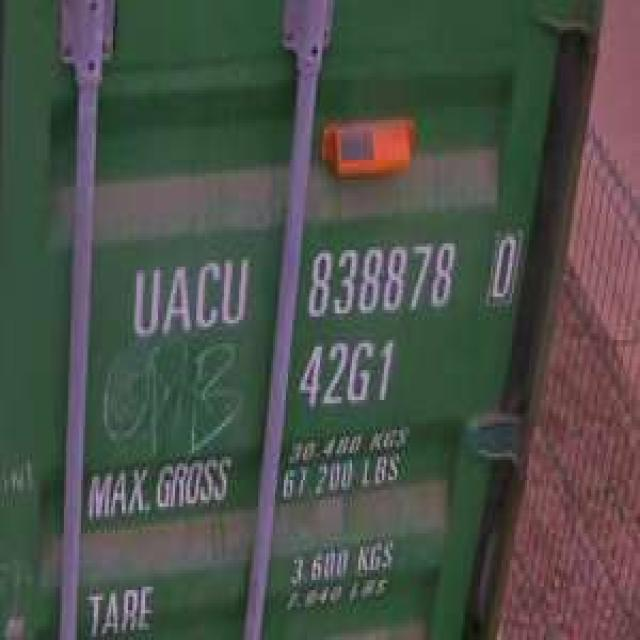dv: (484, 223, 523, 310)
owner: (126, 247, 252, 343)
serial: (301, 234, 456, 324)
size: (292, 330, 397, 413)
